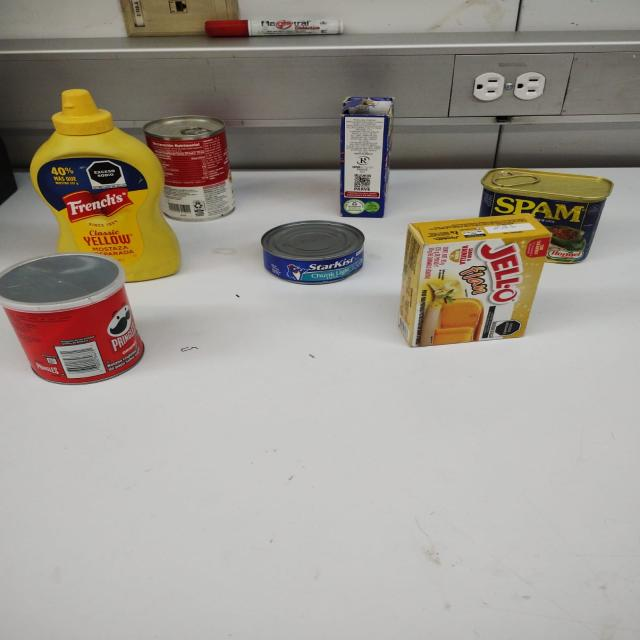can of cream: (142, 115, 243, 222)
can of tuna: (260, 220, 366, 284)
cereal: (338, 97, 394, 217)
chips: (0, 252, 142, 387)
jelly: (397, 213, 556, 348)
mustard: (28, 86, 186, 285)
spam: (480, 168, 614, 264)
